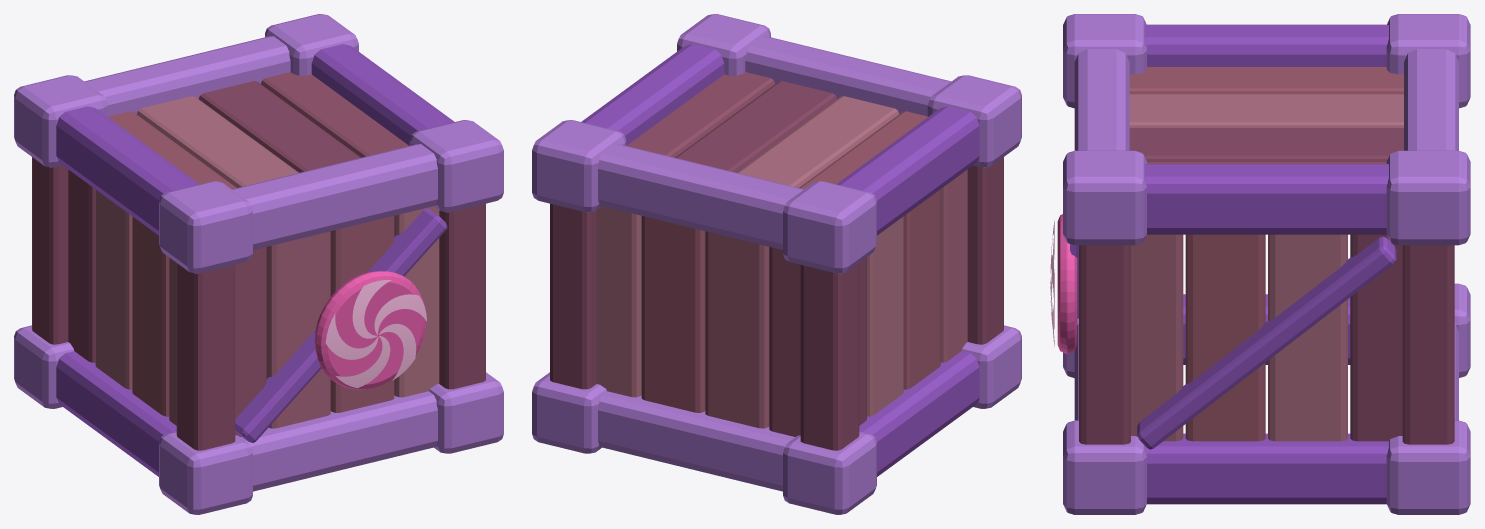
The model's file is candy_crate_NEW.glb.
The picture shows the model from 3 angles, left to right: view 1: azimuth 30°, elevation 25°; view 2: azimuth 150°, elevation 25°; view 3: azimuth 270°, elevation 25°; orthographic projection. The views are drawn at different scales.
Visible parts, largest first — view 1: candy_crate_NEW_visual; view 2: candy_crate_NEW_visual; view 3: candy_crate_NEW_visual.
Boxes of the visible parts, left/top/right/bottom form: candy_crate_NEW_visual: left=14, top=14, right=503, bottom=514; candy_crate_NEW_visual: left=532, top=14, right=1021, bottom=514; candy_crate_NEW_visual: left=1050, top=14, right=1470, bottom=514.
Size of the model in its own units: 1.41 by 1.29 by 1.45.
